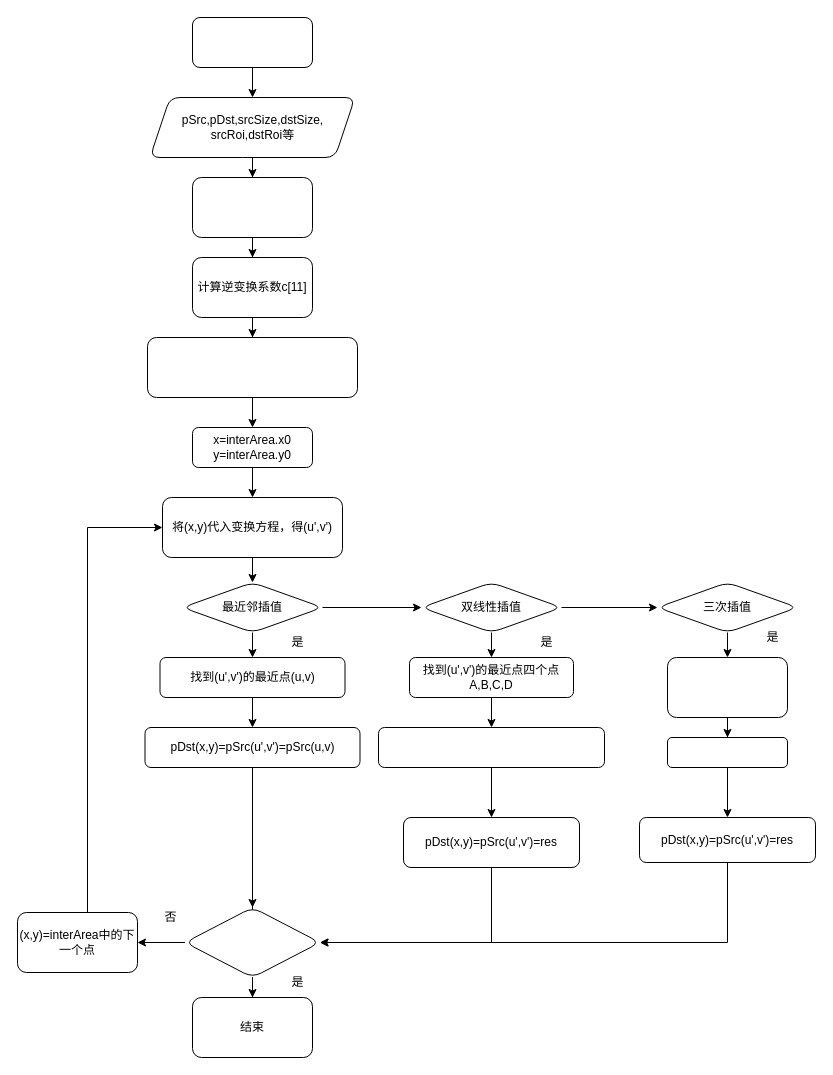
Image size: 833x1075. Some labels were removed from this diagram. Each missing label, with the centre of its shape:
"WarpBilinearQuad" goes at pixel 252 42.
"代入三次插值公式，计算结果为res" goes at pixel 727 752.
"代入双线性插值公式，计算结果为res" goes at pixel 491 747.
"找到(u',v')的最近邻16个点" goes at pixel 727 687.
"计算quad和dstRoi的交集，interArea" goes at pixel 252 367.
"计算正变换系数coeffs[8]" goes at pixel 252 207.
"遍历interArea结束" goes at pixel 252 942.
